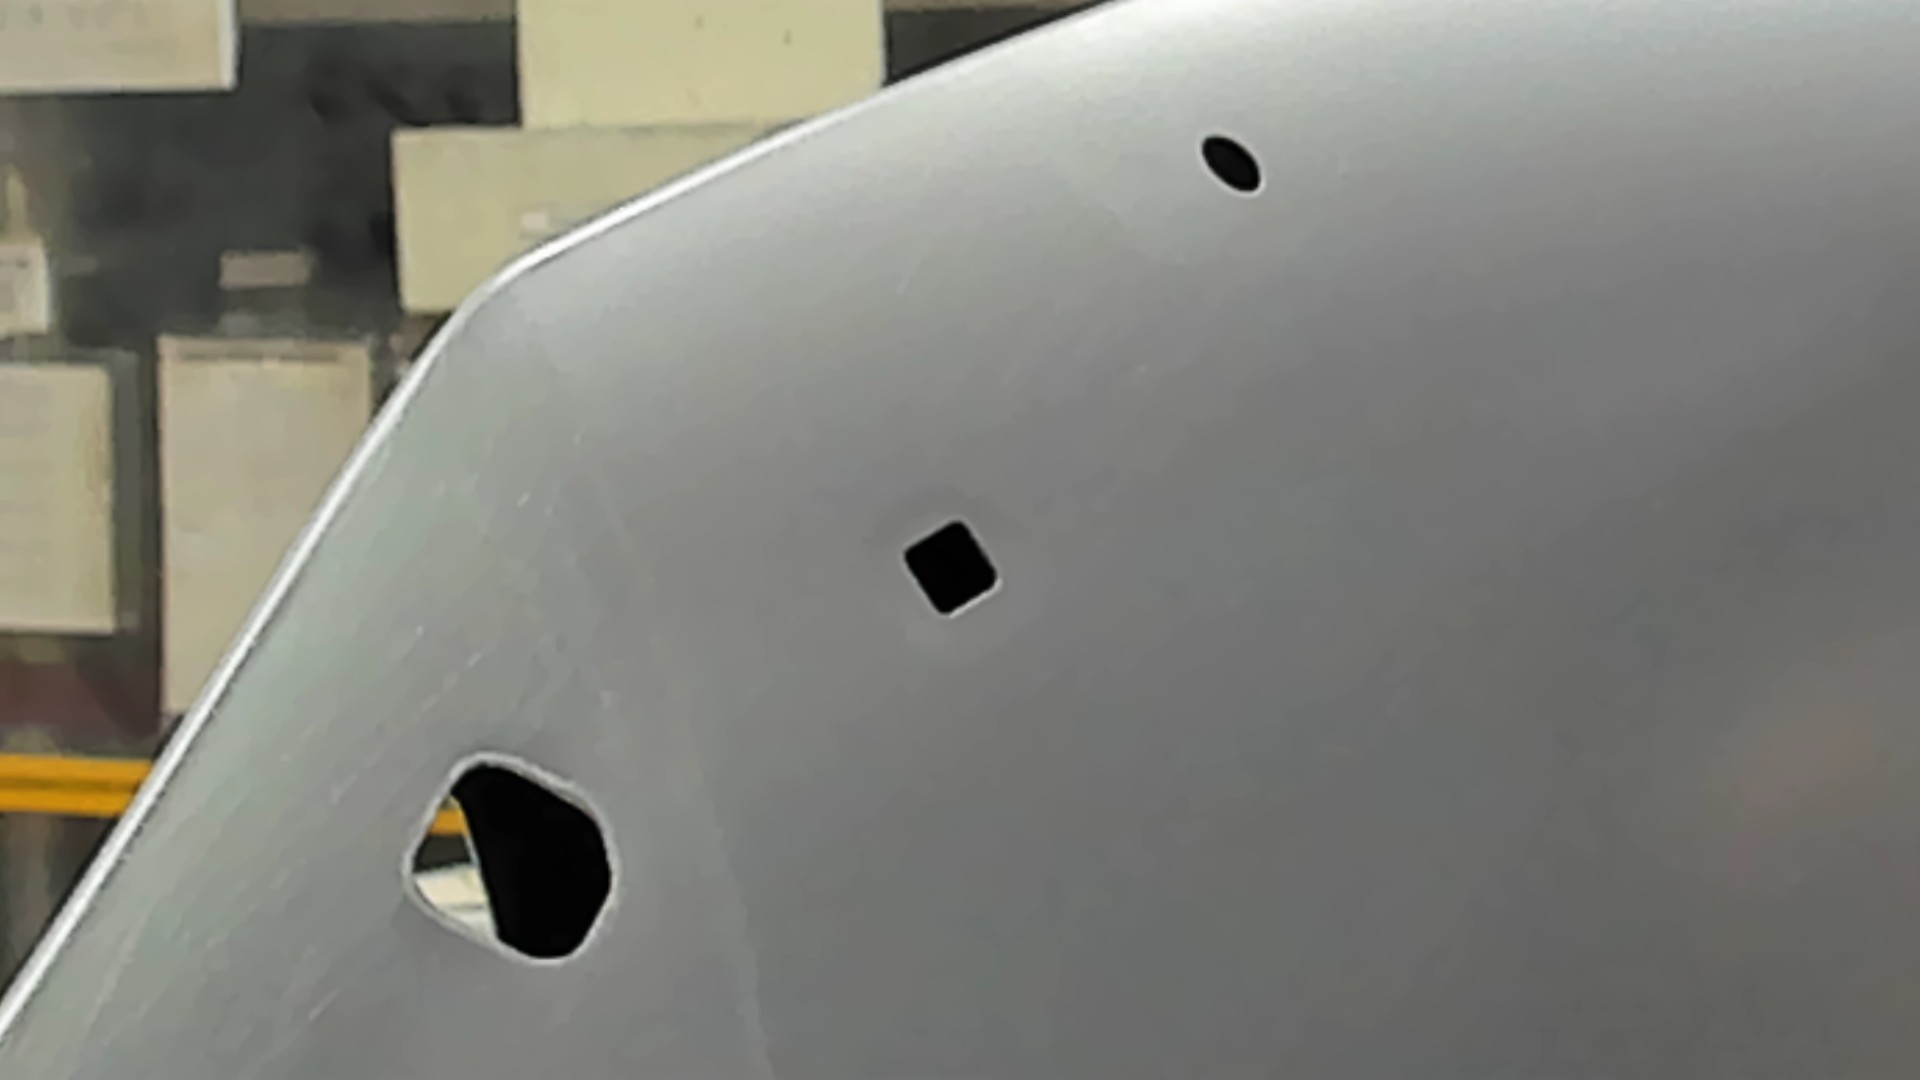chico: (1193, 132, 1265, 196)
grande: (398, 746, 629, 972)
mediano: (891, 514, 1005, 622)
